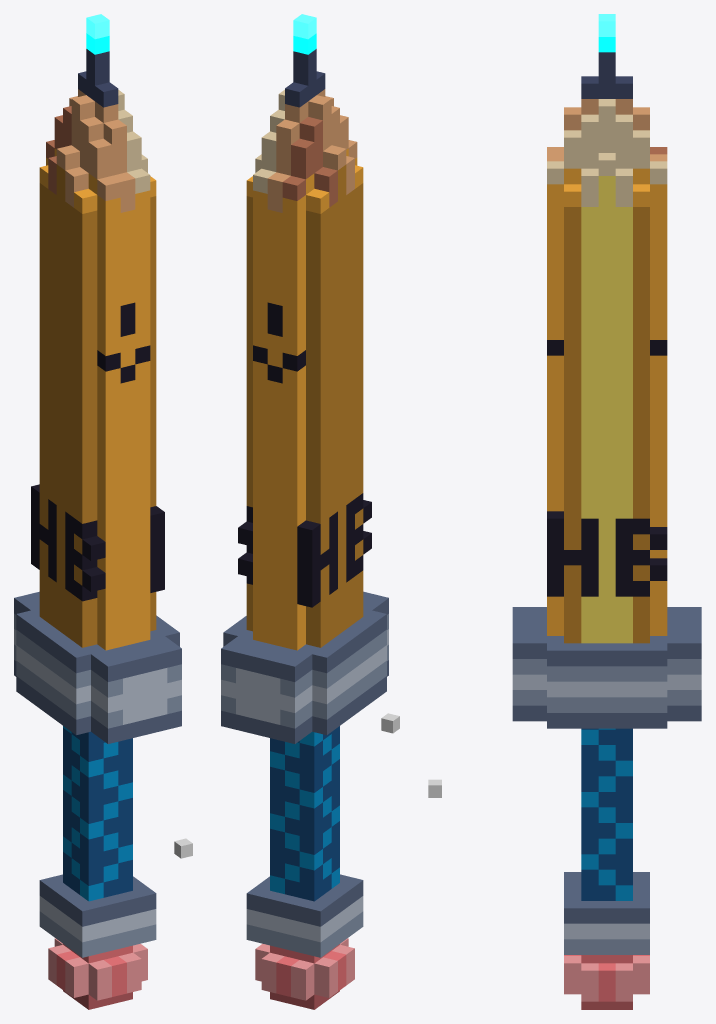
Rendered from PencilSword.fbx.
The picture shows the model from 3 angles, left to right: view 1: azimuth 30°, elevation 25°; view 2: azimuth 150°, elevation 25°; view 3: azimuth 270°, elevation 25°; orthographic projection.
Visible parts, largest first — view 1: pencil_d, pencil, steel_d, grip, line, wood, steel_l, steel, grip_l, rubber_l, lead, rubber (+4 smaller); view 2: pencil_d, pencil, steel_d, grip, line, steel_l, steel, wood, grip_l, rubber_l, wood_d, lead (+4 smaller); view 3: pencil_l, pencil, pencil_d, steel_d, steel, line, wood_l, grip, steel_l, grip_l, rubber_l, wood (+2 smaller).
Boxes of the visible parts, box(x1,y1,x2,y2) form: pencil_d: box(39, 164, 156, 647); pencil: box(39, 148, 156, 650); steel_d: box(14, 591, 181, 926); grip: box(63, 728, 132, 897); line: box(31, 302, 164, 601); wood: box(56, 89, 135, 212); steel_l: box(14, 629, 181, 942); steel: box(14, 613, 181, 957); grip_l: box(63, 726, 132, 901); rubber_l: box(48, 938, 147, 1000); lead: box(78, 49, 118, 107); rubber: box(56, 944, 132, 996); pencil_d: box(246, 164, 363, 647); pencil: box(246, 148, 363, 650); steel_d: box(221, 591, 388, 926); grip: box(270, 726, 339, 901); line: box(238, 302, 371, 607); steel_l: box(221, 629, 388, 942); steel: box(221, 614, 388, 957); wood: box(267, 89, 357, 212); grip_l: box(270, 731, 339, 894); rubber_l: box(255, 938, 354, 1000); wood_d: box(282, 117, 337, 207); lead: box(285, 49, 325, 107); pencil_l: box(581, 176, 632, 643); pencil: box(547, 168, 667, 635); pencil_d: box(564, 207, 649, 643); steel_d: box(512, 607, 701, 923); steel: box(512, 659, 701, 954); line: box(547, 340, 667, 596); wood_l: box(547, 99, 667, 206); grip: box(581, 728, 632, 900); steel_l: box(512, 674, 701, 939); grip_l: box(581, 728, 632, 900); rubber_l: box(564, 956, 649, 1001); wood: box(547, 99, 667, 161).
Size of the model in its own units: 70 by 630 by 159.
